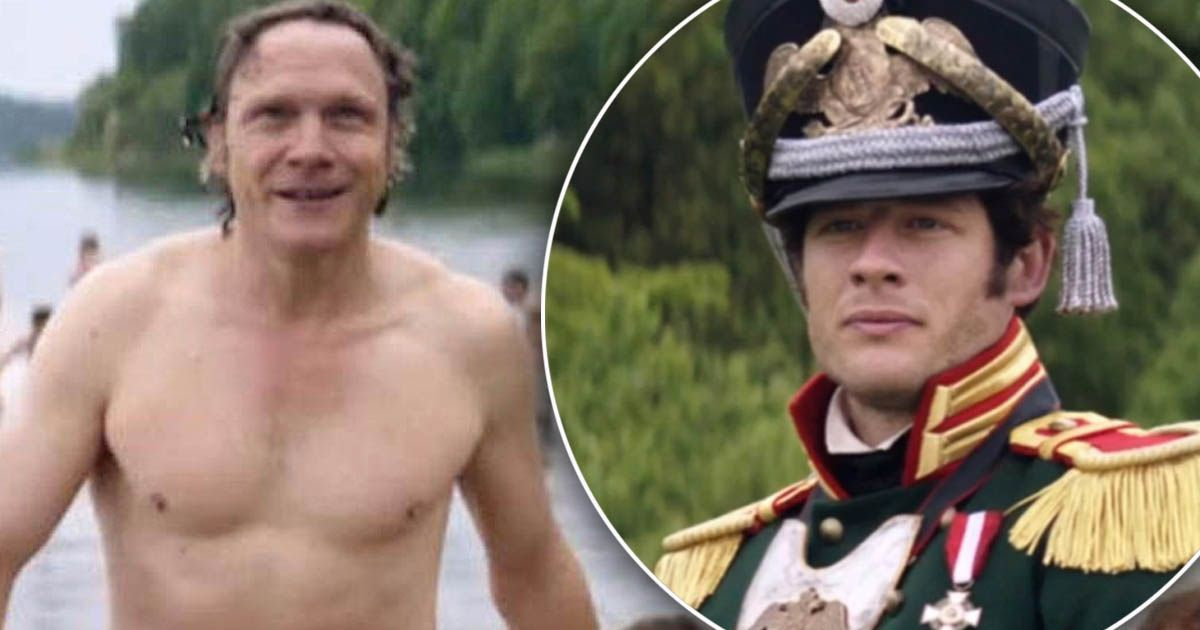bad: (221, 57, 407, 242)
